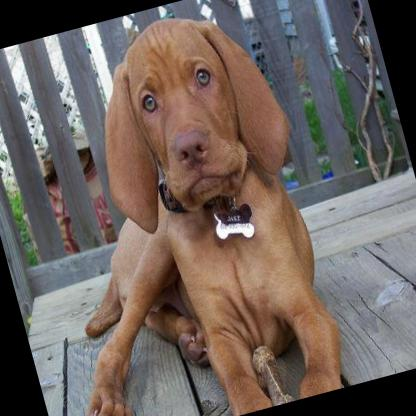vizsla: (0, 0, 355, 416)
